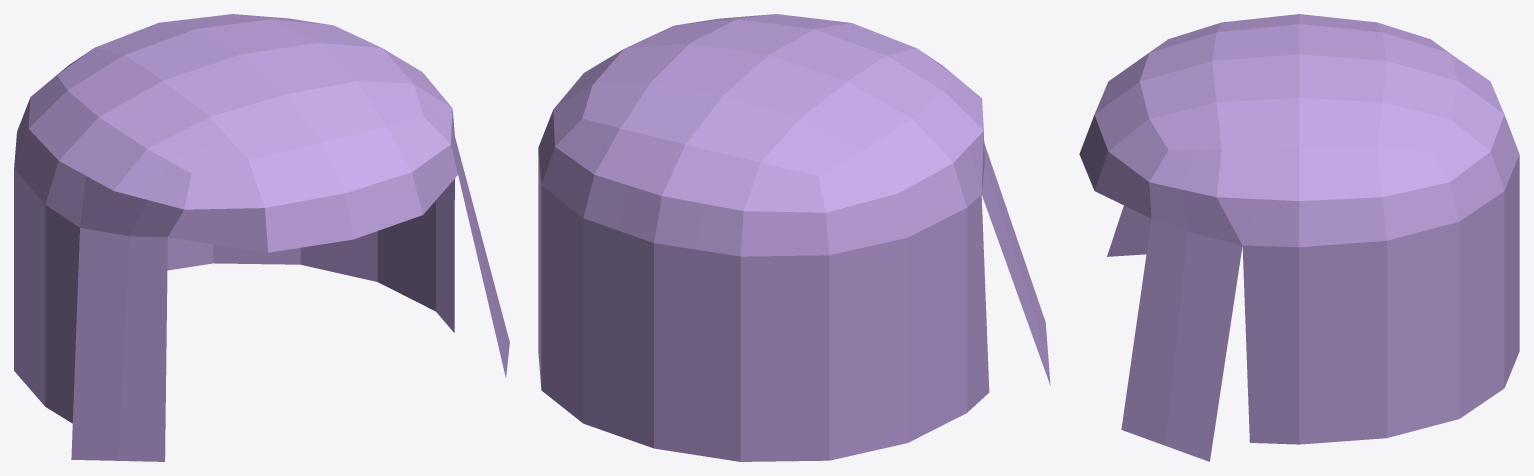
Rendered from hair_001.glb.
3 renders of one model, left to right at view 1: azimuth 30°, elevation 25°; view 2: azimuth 150°, elevation 25°; view 3: azimuth 270°, elevation 25°, orthographic. The views are drawn at different scales.
Visible parts, largest first — view 1: hair_001; view 2: hair_001; view 3: hair_001.
Boxes of the visible parts, x1,y1,x2,y2 form: hair_001: (14, 14, 509, 461); hair_001: (538, 14, 1050, 461); hair_001: (1079, 14, 1519, 461).
Size of the model in its own units: 1.94 by 1.29 by 1.7.
